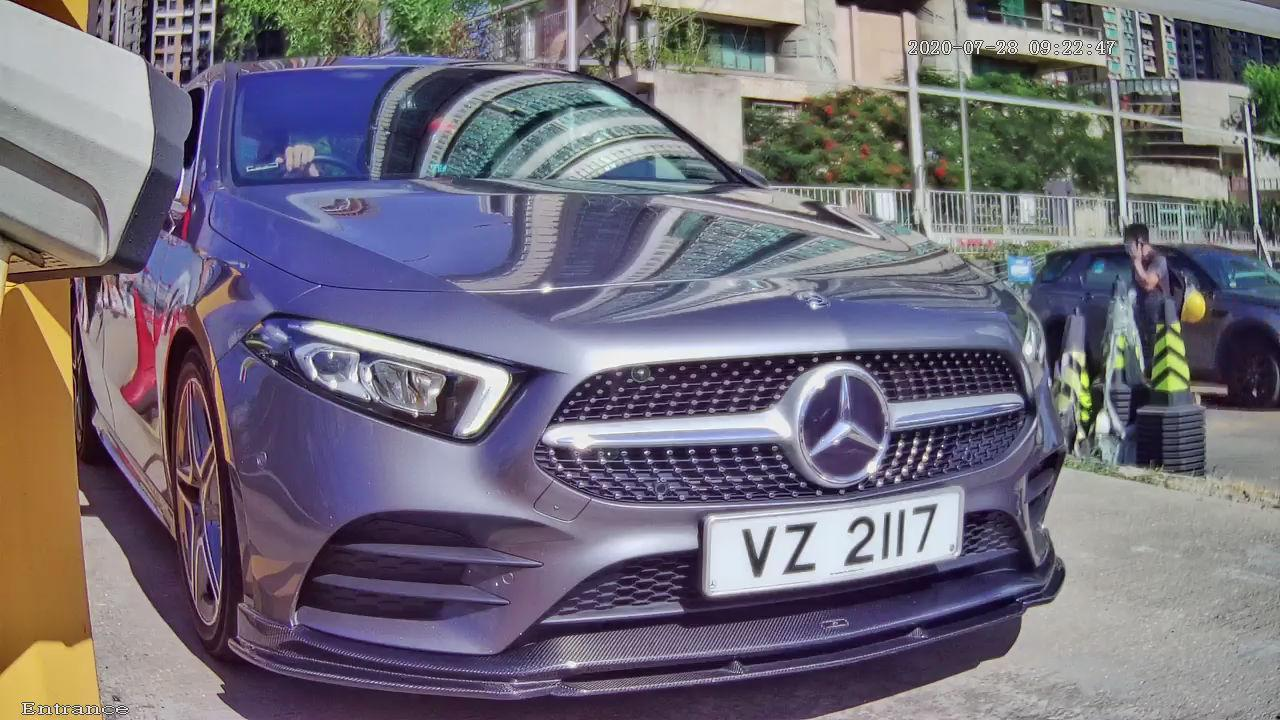privatecar: (23, 4, 1212, 714)
